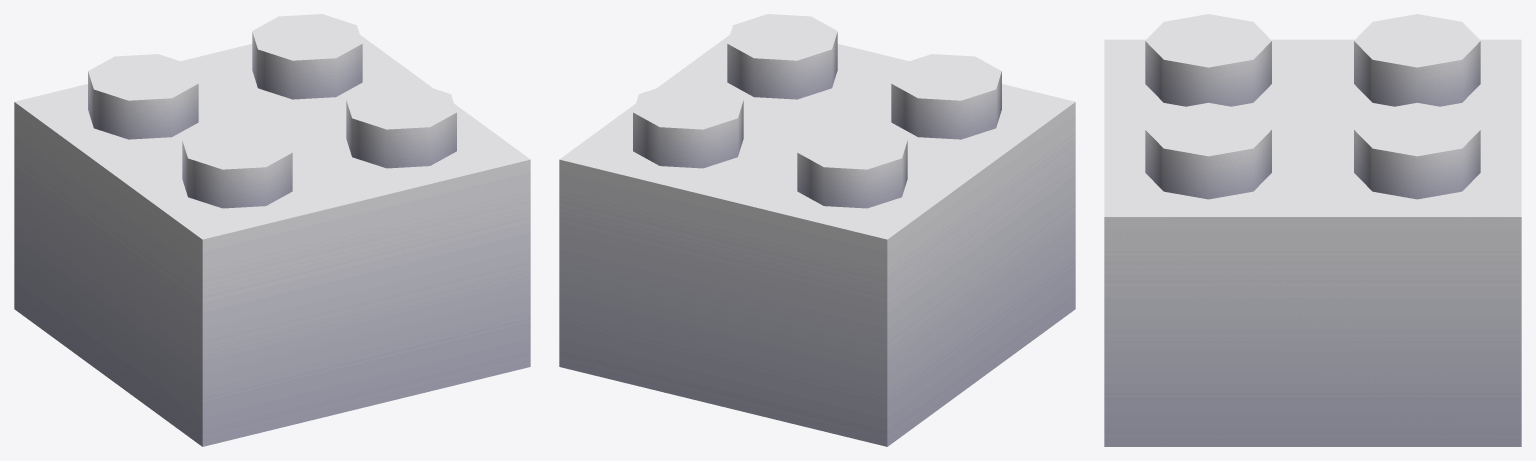
Rendered from round-lq-brick-2x2.glb.
The picture shows the model from 3 angles, left to right: view 1: azimuth 30°, elevation 25°; view 2: azimuth 150°, elevation 25°; view 3: azimuth 270°, elevation 25°; orthographic projection. The views are drawn at different scales.
Parts seen in each view (by area): view 1: round-lq-brick-2x2; view 2: round-lq-brick-2x2; view 3: round-lq-brick-2x2.
Part boxes in pixels (box(x1,y1,x2,y2)): round-lq-brick-2x2: box(14, 14, 530, 446); round-lq-brick-2x2: box(559, 14, 1075, 446); round-lq-brick-2x2: box(1104, 14, 1521, 446).
Size of the model in its own units: 0.159 by 0.114 by 0.158.
1 material, 1 textured.
